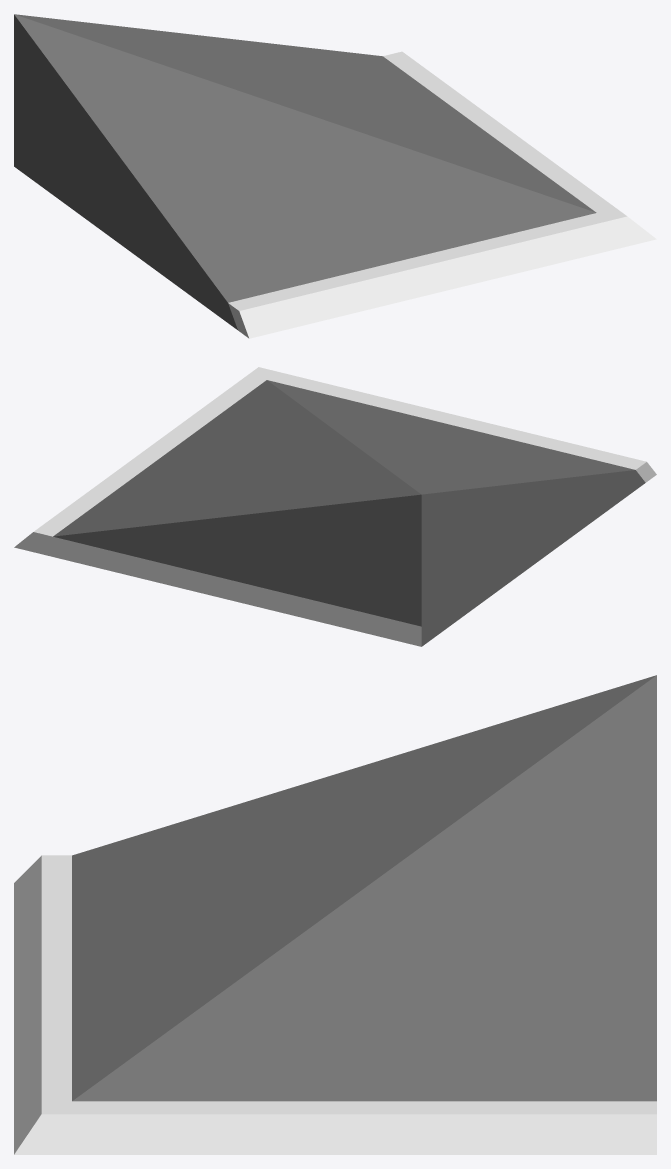
Rendered from RoofShedCorner.glb.
3 views of the same model, one above another, from view 1: azimuth 30°, elevation 25°; view 2: azimuth 150°, elevation 25°; view 3: azimuth 270°, elevation 25° (orthographic). The views are drawn at different scales.
Visible parts, largest first — view 1: RoofShedCorner; view 2: RoofShedCorner; view 3: RoofShedCorner.
Boxes of the visible parts, x1=… form: RoofShedCorner: x1=14, y1=14, x2=656, y2=338; RoofShedCorner: x1=14, y1=367, x2=656, y2=646; RoofShedCorner: x1=14, y1=675, x2=656, y2=1154.
Size of the model in its own units: 2.1 by 0.75 by 2.1.
1 material, 1 textured.
